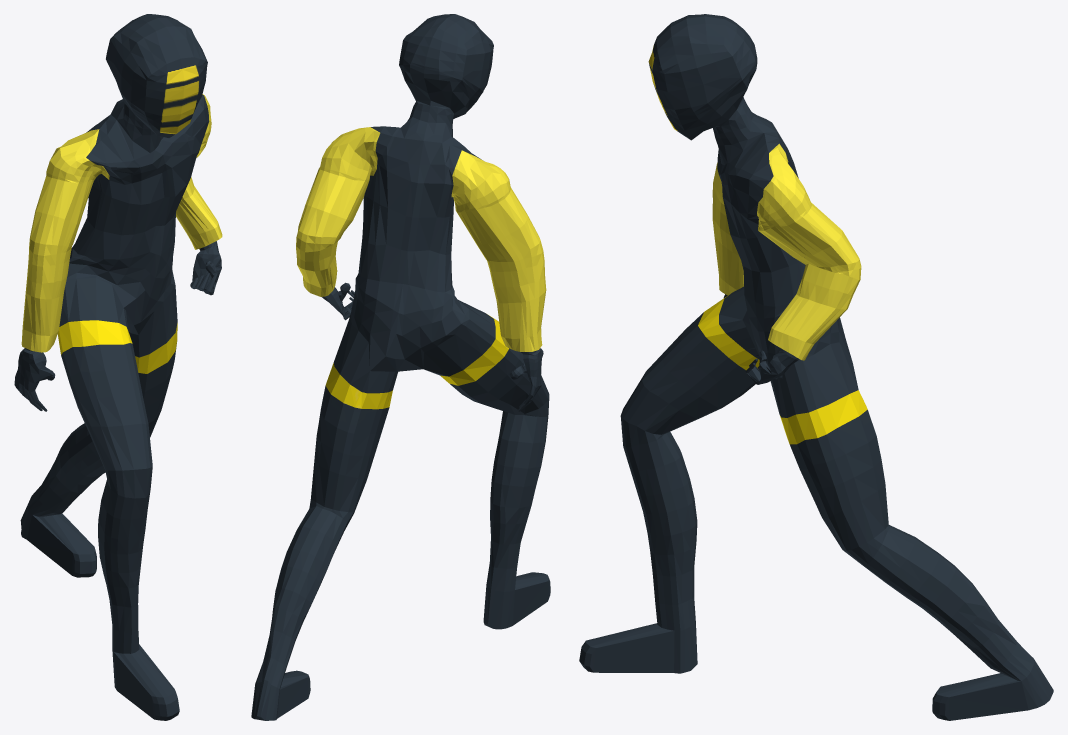
Rendered from Sentry_Stun_Recover_000003.obj.
3 views of the same model, side by side, from view 1: azimuth 30°, elevation 25°; view 2: azimuth 150°, elevation 25°; view 3: azimuth 270°, elevation 25° (orthographic). The views are drawn at different scales.
Parts seen in each view (by area): view 1: Cube; view 2: Cube; view 3: Cube.
Part boxes in pixels (left/top/right/bottom): Cube: left=14, top=14, right=222, bottom=720; Cube: left=251, top=14, right=550, bottom=720; Cube: left=579, top=14, right=1053, bottom=720.
Bounding box in the file's own units: 1.28 × 3.51 × 2.23.
